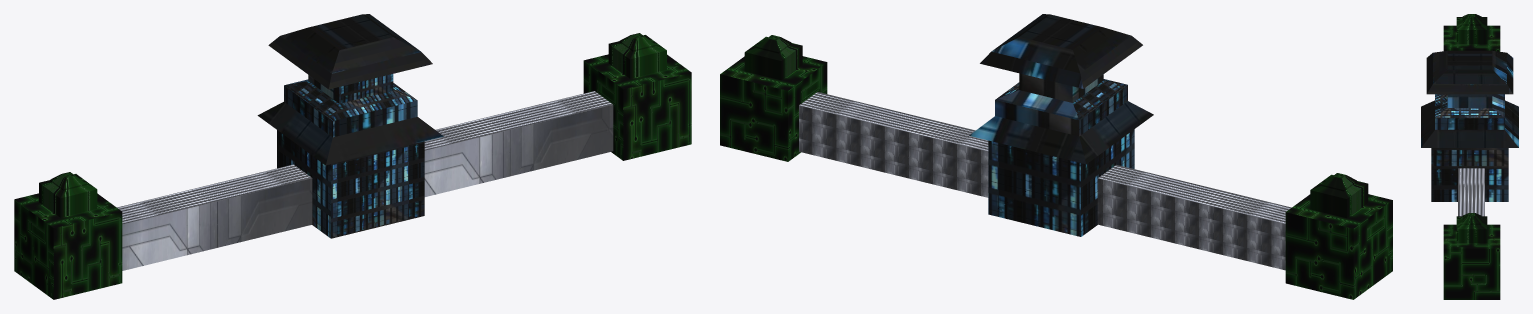
Rendered from companyguncel.fbx.
3 views of the same model, side by side, from view 1: azimuth 30°, elevation 25°; view 2: azimuth 150°, elevation 25°; view 3: azimuth 270°, elevation 25° (orthographic). The views are drawn at different scales.
Parts seen in each view (by area): view 1: Plane, Cube.001, Cube.006, Cube.004, Cube.005; view 2: Plane, Cube.001, Cube.006, Cube.004, Cube.005; view 3: Plane, Cube.005, Cube.004, Cube.006.
Boxes of the visible parts, left/top/right/bottom form: Plane: left=257, top=14, right=443, bottom=238; Cube.001: left=117, top=164, right=312, bottom=270; Cube.006: left=424, top=91, right=613, bottom=196; Cube.004: left=14, top=172, right=122, bottom=299; Cube.005: left=583, top=33, right=691, bottom=160; Plane: left=969, top=14, right=1153, bottom=236; Cube.001: left=1097, top=165, right=1291, bottom=270; Cube.006: left=799, top=92, right=988, bottom=197; Cube.004: left=1285, top=173, right=1392, bottom=299; Cube.005: left=720, top=35, right=827, bottom=161; Plane: left=1421, top=50, right=1518, bottom=201; Cube.005: left=1443, top=213, right=1500, bottom=299; Cube.004: left=1443, top=14, right=1500, bottom=51; Cube.006: left=1458, top=168, right=1484, bottom=216.
Size of the model in its own units: 25134 by 6674 by 4663.
Materials: 3 (3 with a texture image).
